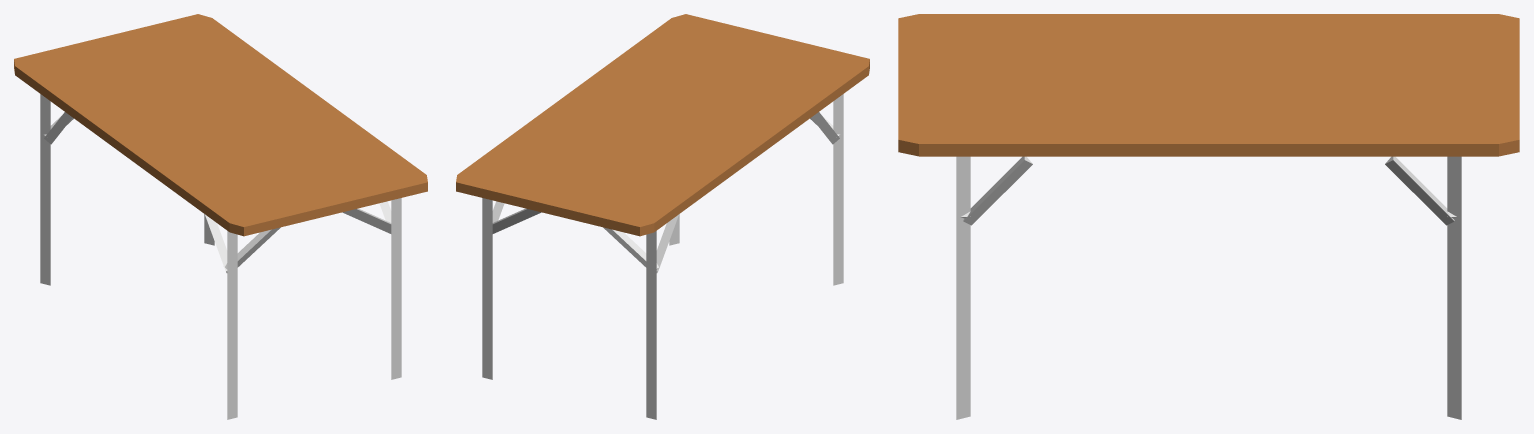
File: desk.fbx
3 views of the same model, side by side, from view 1: azimuth 30°, elevation 25°; view 2: azimuth 150°, elevation 25°; view 3: azimuth 270°, elevation 25° (orthographic). The views are drawn at different scales.
Parts seen in each view (by area): view 1: 立方体, 円柱; view 2: 立方体, 円柱; view 3: 立方体, 円柱.
Part boxes in pixels (x1,y1,x2,y2): 立方体: (14,14,427,236); 円柱: (40,94,401,419); 立方体: (456,14,869,236); 円柱: (482,94,843,419); 立方体: (898,14,1519,156); 円柱: (956,156,1461,419).
Bounding box in the file's own units: 137 × 139 × 276.
1 material, 1 textured.
